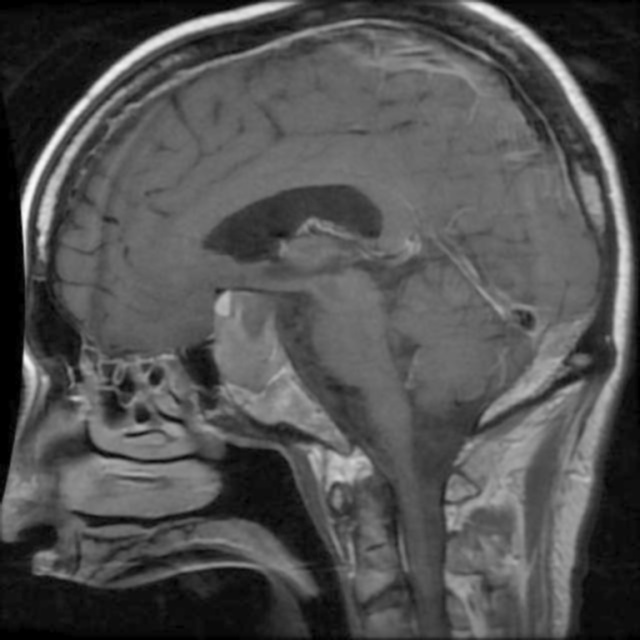no tumor: (214, 285, 300, 413)
